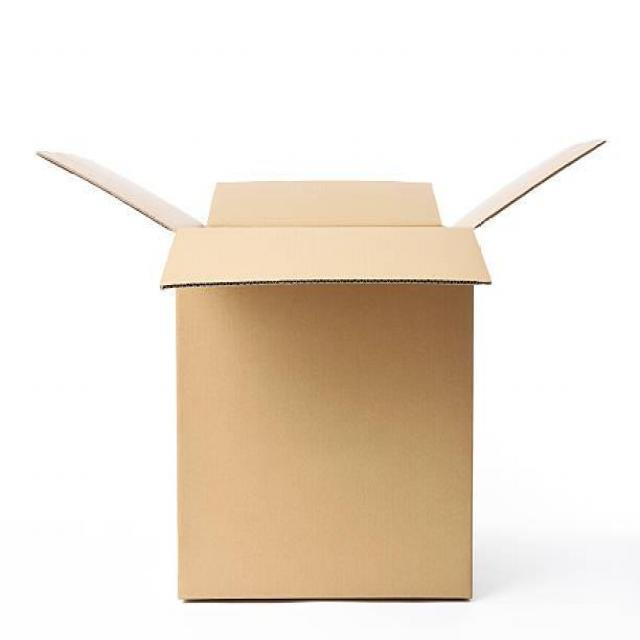box: (36, 130, 608, 616)
